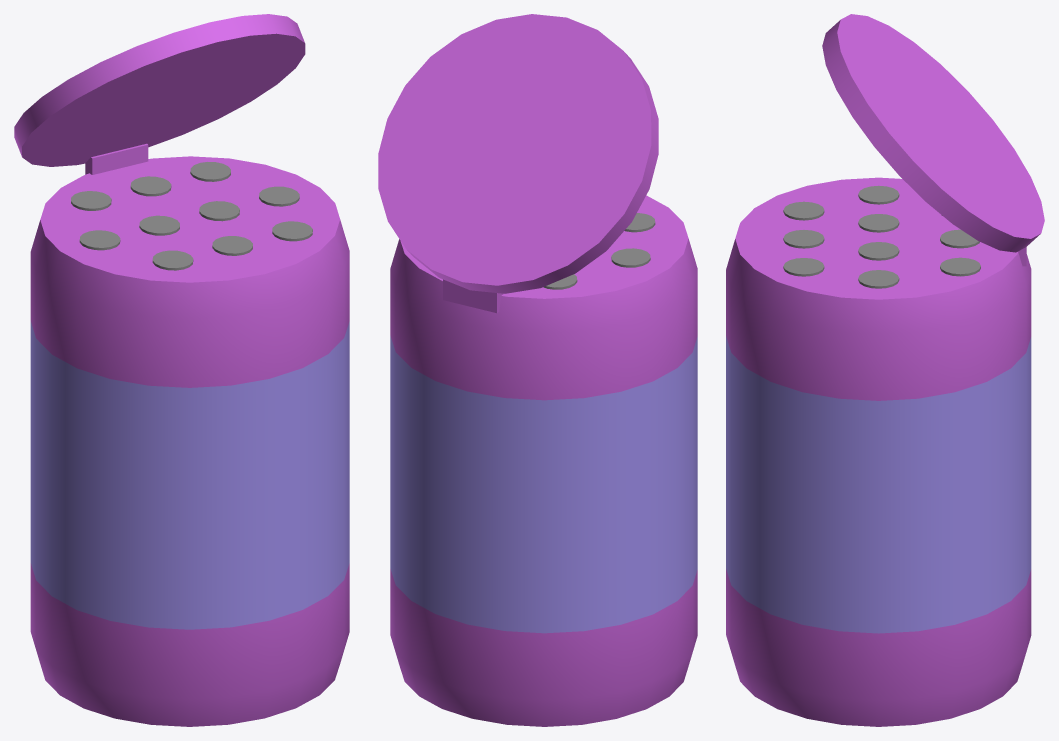
The model's file is 2 cleaning agent.fbx.
3 views of the same model, side by side, from view 1: azimuth 30°, elevation 25°; view 2: azimuth 150°, elevation 25°; view 3: azimuth 270°, elevation 25° (orthographic). The views are drawn at different scales.
Visible parts, largest first — view 1: Cylinder.009; view 2: Cylinder.009; view 3: Cylinder.009.
Part boxes in pixels (box(x1,y1,x2,y2)): Cylinder.009: box(14, 14, 349, 726); Cylinder.009: box(378, 14, 697, 726); Cylinder.009: box(726, 14, 1044, 726).
Size of the model in its own units: 9.67 by 21.97 by 10.03.
